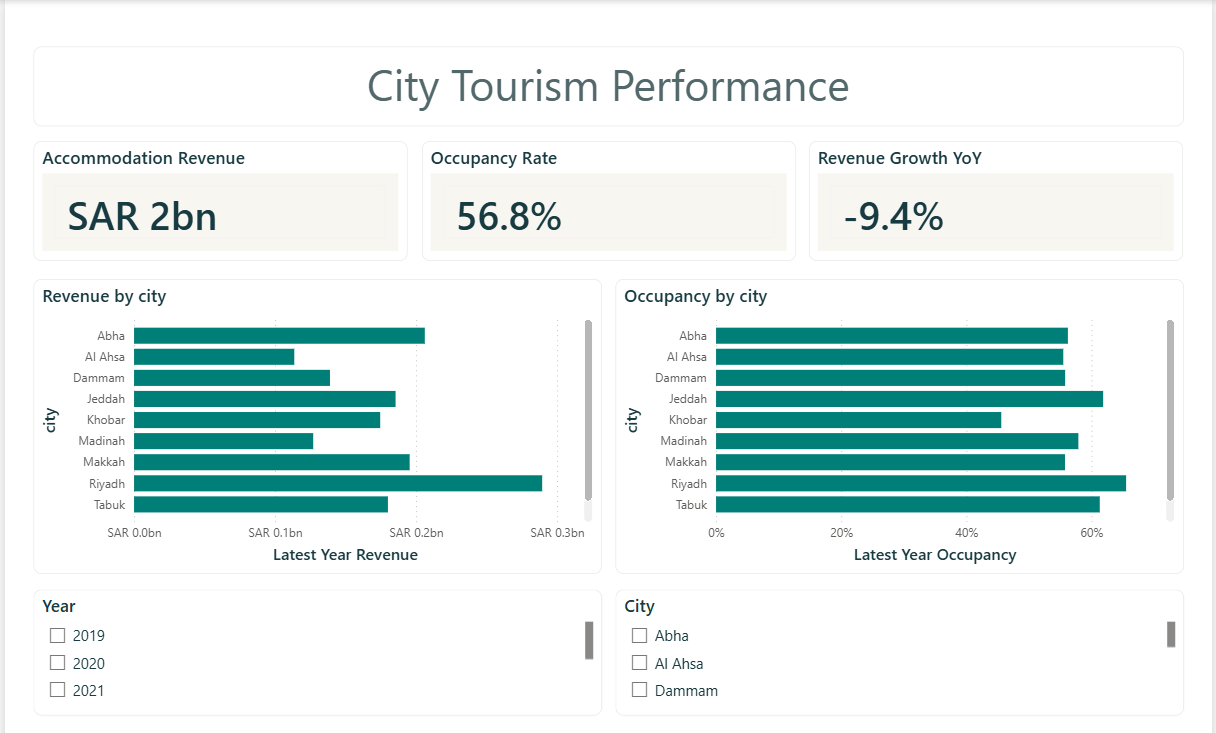

The dashboard page shown, as its layout file describes it:
{"tool":"powerbi","page":{"name":"City Tourism Performance","canvas":[1200,720],"ordinal":1},"visuals":[{"type":"textbox","box":[28,17,1144,79],"z":1000},{"type":"cardVisual","title":"Accommodation Revenue","fields":{"Data":["Tourism.Latest Year Revenue"]},"box":[28,111,372,119],"z":1000},{"type":"cardVisual","title":"Occupancy Rate","fields":{"Data":["Tourism.Latest Year Occupancy"]},"box":[414,111,372,119],"z":1000},{"type":"cardVisual","title":"Revenue Growth YoY","fields":{"Data":["Tourism.Revenue YoY"]},"box":[800,111,372,119],"z":1000},{"type":"clusteredBarChart","title":"Revenue by city","fields":{"Category":["Tourism.city"],"Y":["Tourism.Latest Year Revenue"]},"box":[28,247,565,293],"z":1000},{"type":"clusteredBarChart","title":"Occupancy by city","fields":{"Category":["Tourism.city"],"Y":["Tourism.Latest Year Occupancy"]},"box":[607,247,565,293],"z":1000},{"type":"slicer","title":"Year","fields":{"Values":["Tourism.Year"]},"box":[28,557,565,125],"z":1000},{"type":"slicer","title":"City","fields":{"Values":["Tourism.city"]},"box":[607,557,565,125],"z":1000}]}

Visuals, with their boxes in screenshot pixels (x1, y1, x2, y2), scaled from the page's 1200x720 canvas onto the 1216x733 screenshot:
textbox: BBox(28, 17, 1188, 98)
"Accommodation Revenue" cardVisual: BBox(28, 113, 405, 234)
"Occupancy Rate" cardVisual: BBox(420, 113, 796, 234)
"Revenue Growth YoY" cardVisual: BBox(811, 113, 1188, 234)
"Revenue by city" clusteredBarChart: BBox(28, 251, 601, 550)
"Occupancy by city" clusteredBarChart: BBox(615, 251, 1188, 550)
"Year" slicer: BBox(28, 567, 601, 694)
"City" slicer: BBox(615, 567, 1188, 694)
